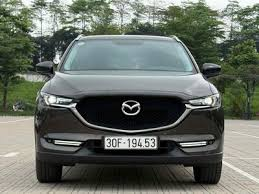Bien-so: (105, 136, 159, 150)
